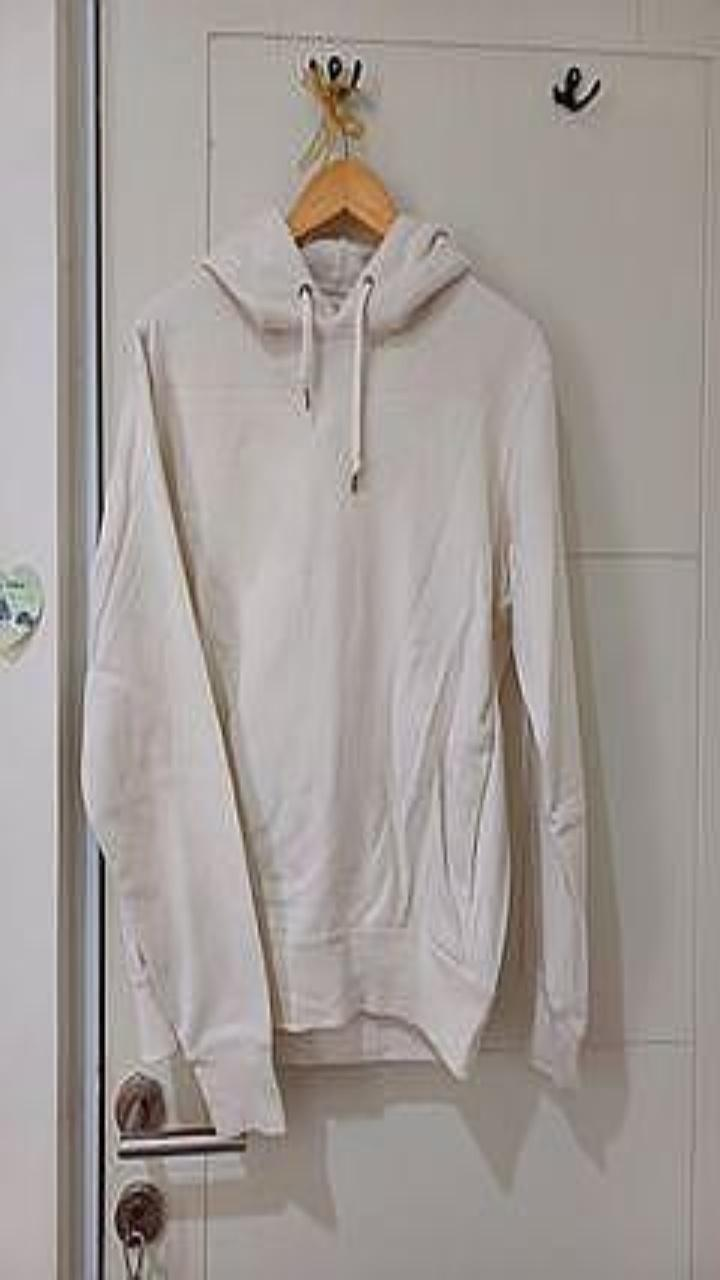Hoodie: (82, 206, 587, 1135)
